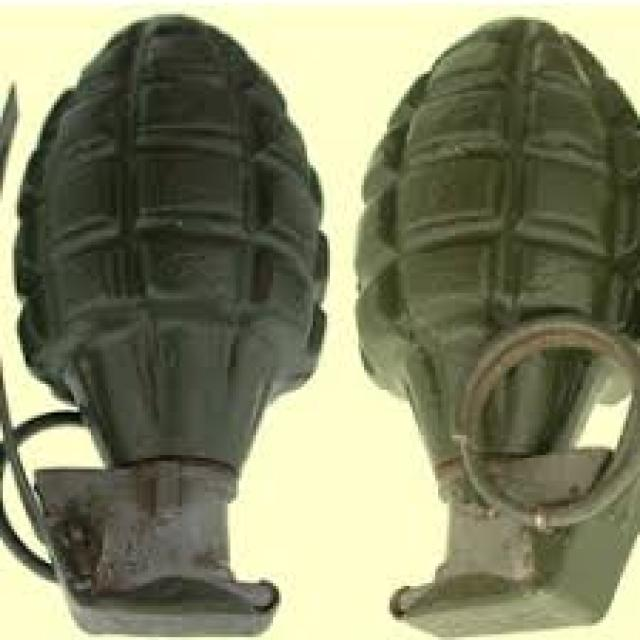grenade: (1, 1, 343, 640), (344, 1, 640, 640)
